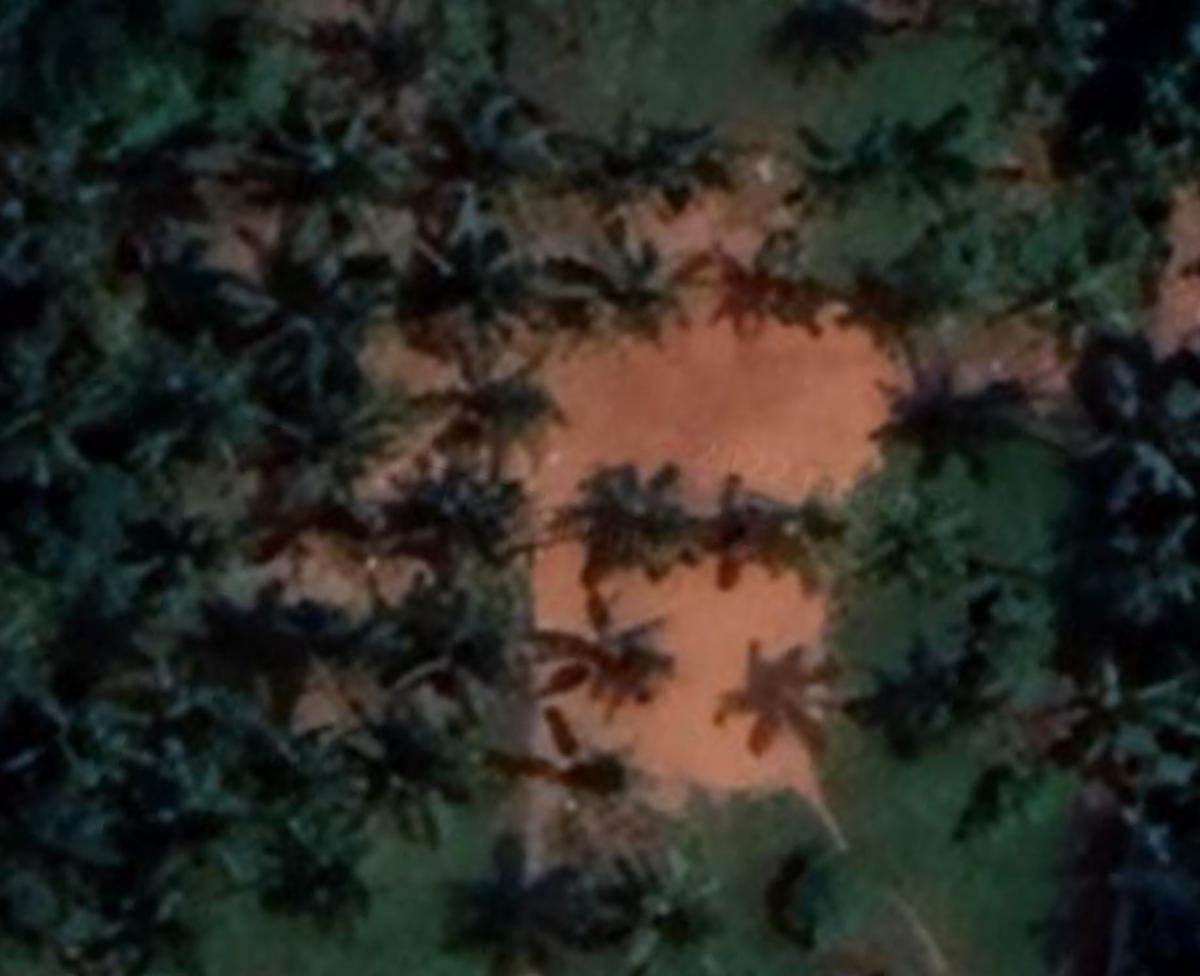coconut: (535, 589, 713, 721), (254, 96, 410, 222), (563, 219, 716, 337), (419, 335, 579, 446), (861, 467, 993, 591), (420, 202, 535, 334), (579, 452, 703, 573), (603, 845, 721, 965), (275, 803, 397, 917), (746, 475, 856, 593), (143, 759, 249, 870)
